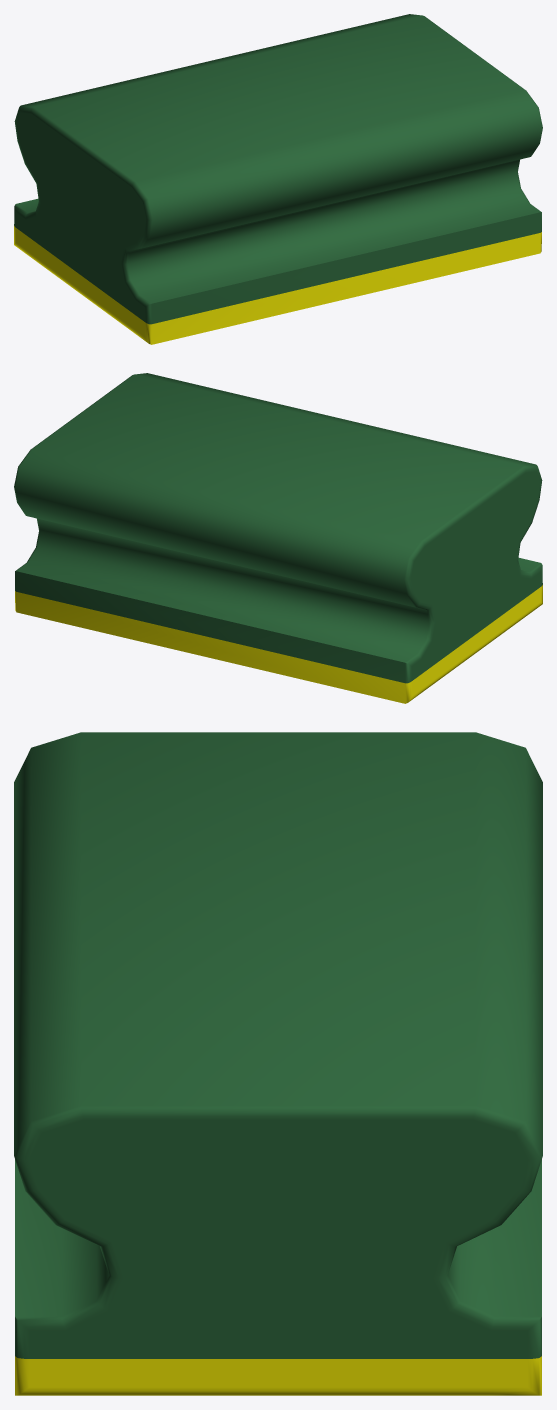
The model's file is Estropajo.fbx.
The picture shows the model from 3 angles, top to bottom: view 1: azimuth 30°, elevation 25°; view 2: azimuth 150°, elevation 25°; view 3: azimuth 270°, elevation 25°; orthographic projection. The views are drawn at different scales.
Parts seen in each view (by area): view 1: ESTROPAJO; view 2: ESTROPAJO; view 3: ESTROPAJO.
Part boxes in pixels (box(x1,y1,x2,y2)): ESTROPAJO: box(14, 14, 542, 344); ESTROPAJO: box(14, 373, 542, 703); ESTROPAJO: box(14, 732, 542, 1395).
Bounding box in the file's own units: 9.05 × 3.36 × 5.42.
